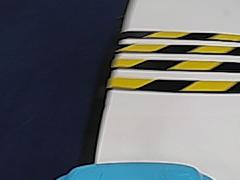bump: (110, 21, 238, 98)
